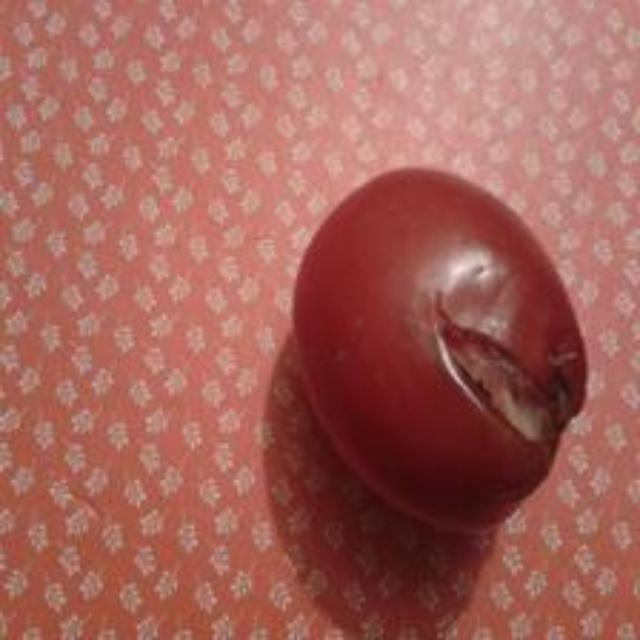defect: (285, 161, 600, 537)
